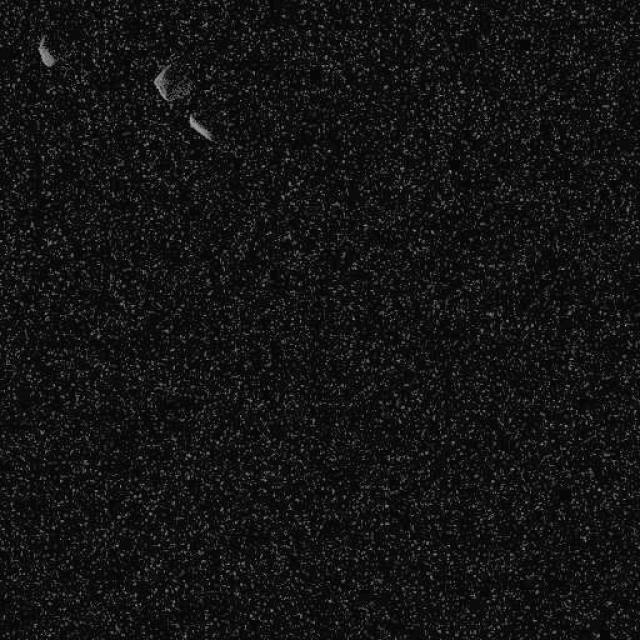D2: (152, 60, 194, 102), (186, 111, 215, 142), (36, 32, 56, 68)
